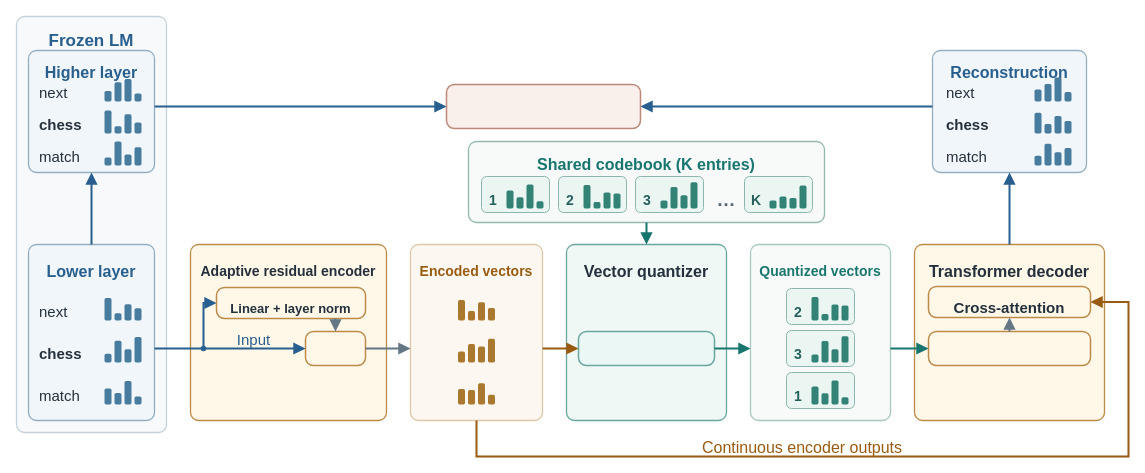
Some shapes in this 1145 by 473 pixel diagram are drawn without their labels. Here are the shapes that lost their labels. From the top down, the centre of each, then its label:
pixel 543 106: Reconstruction loss
pixel 335 348: Mix
pixel 646 348: Top-k sampling
pixel 1009 348: Self-attention
